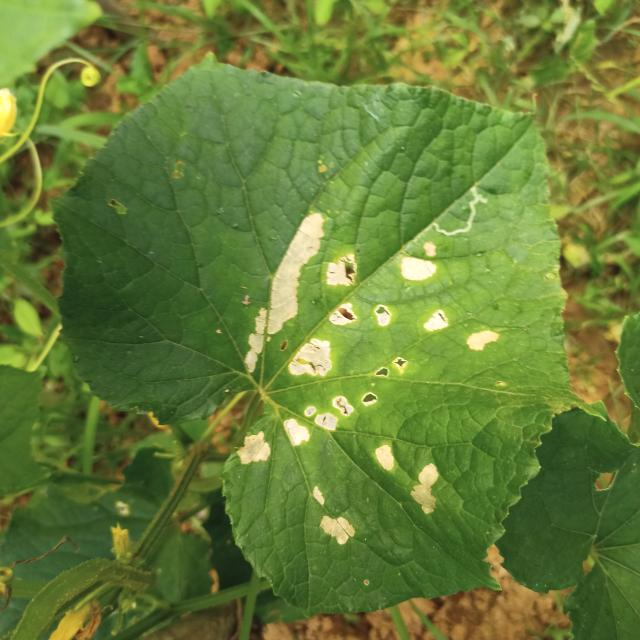disease_cucumber: (234, 212, 498, 472), (371, 444, 440, 516), (311, 484, 356, 548)
